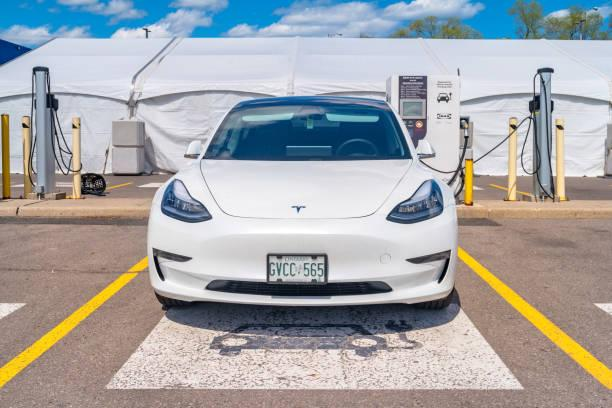licence: (261, 248, 330, 288)
